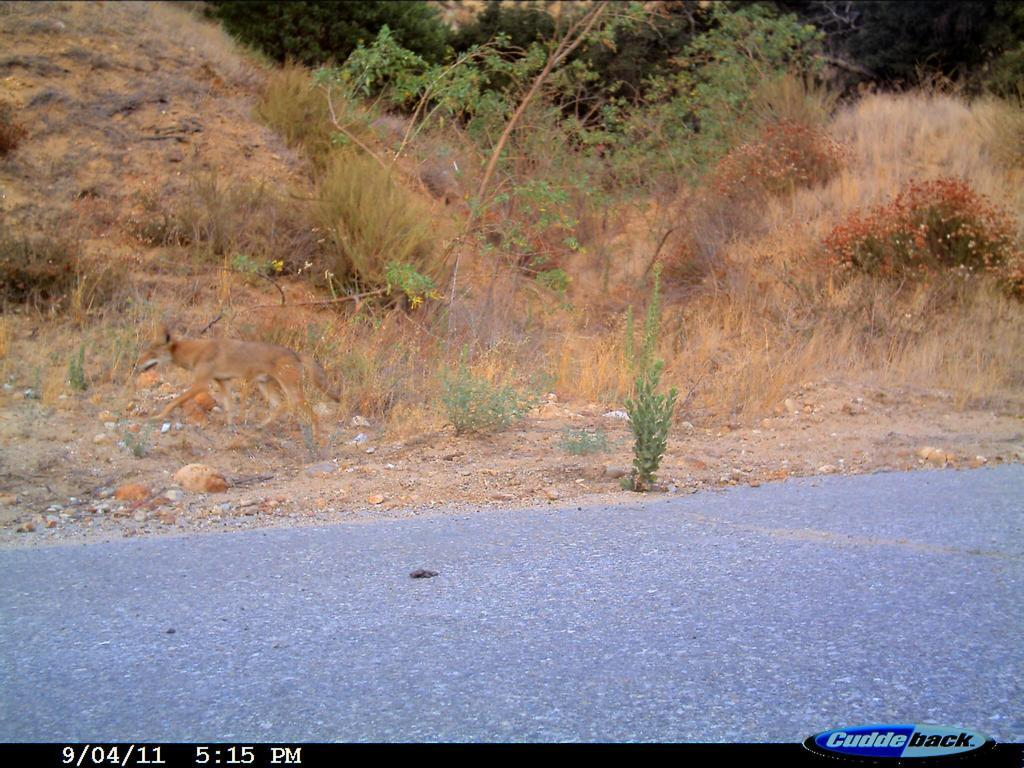coyote: (131, 321, 347, 450)
